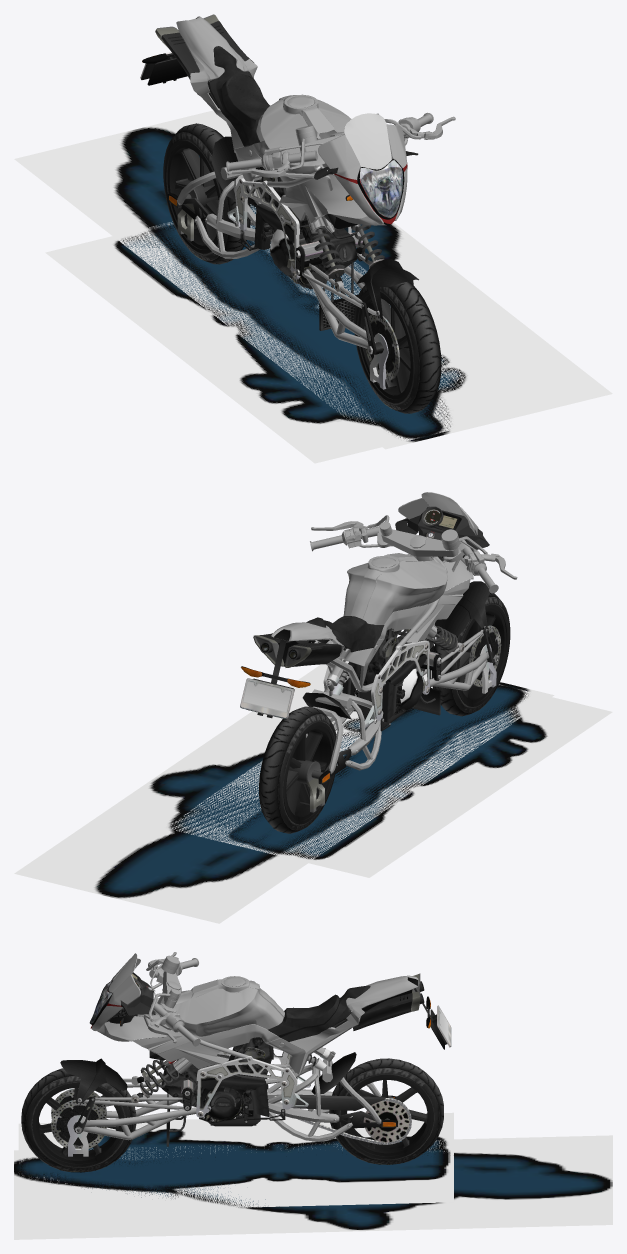
File: bike3_15.fbx
3 renders of one model, top to bottom at view 1: azimuth 30°, elevation 25°; view 2: azimuth 150°, elevation 25°; view 3: azimuth 270°, elevation 25°, orthographic. The views are drawn at different scales.
Visible parts, largest first — view 1: Shadow_SunSet, Shadow_DayLight, Body, Chrome, Tyre_F, SteeringChrome, Rim_F, Rim_B, Matt, Tyre_B, Glass, Lights; view 2: Shadow_SunSet, Shadow_DayLight, Chrome, Body, SteeringChrome, Tyre_B, Rim_B, Rim_F, Plate, Tyre_F, Matt; view 3: Shadow_SunSet, Shadow_DayLight, Body, Chrome, Rim_F, Rim_B, Tyre_B, Tyre_F, SteeringChrome, Matt, Glass.
Part boxes in pixels (<box>): Shadow_SunSet: <box>14,110,612,449</box>; Shadow_DayLight: <box>45,204,541,463</box>; Body: <box>176,16,407,348</box>; Chrome: <box>142,14,418,389</box>; Tyre_F: <box>354,281,441,413</box>; SteeringChrome: <box>226,112,455,190</box>; Rim_F: <box>355,291,413,403</box>; Rim_B: <box>164,140,222,253</box>; Matt: <box>207,46,270,147</box>; Tyre_B: <box>163,123,250,264</box>; Glass: <box>344,113,392,178</box>; Lights: <box>169,160,403,217</box>; Shadow_SunSet: <box>14,659,554,923</box>; Shadow_DayLight: <box>165,670,612,877</box>; Chrome: <box>241,506,498,812</box>; Body: <box>271,498,489,773</box>; SteeringChrome: <box>310,515,517,593</box>; Tyre_B: <box>259,706,336,833</box>; Rim_B: <box>283,722,335,824</box>; Rim_F: <box>456,604,508,706</box>; Plate: <box>240,678,294,718</box>; Tyre_F: <box>431,592,510,716</box>; Matt: <box>306,616,384,652</box>; Shadow_SunSet: <box>14,1135,612,1239</box>; Shadow_DayLight: <box>18,1112,453,1208</box>; Body: <box>81,958,418,1141</box>; Chrome: <box>60,972,444,1156</box>; Rim_F: <box>32,1082,124,1166</box>; Rim_B: <box>340,1074,433,1159</box>; Tyre_B: <box>329,1058,443,1164</box>; Tyre_F: <box>21,1068,136,1172</box>; SteeringChrome: <box>143,952,200,1046</box>; Matt: <box>268,985,369,1041</box>; Glass: <box>108,953,137,993</box>.
Bounding box in the file's own units: 141 × 122 × 308.
